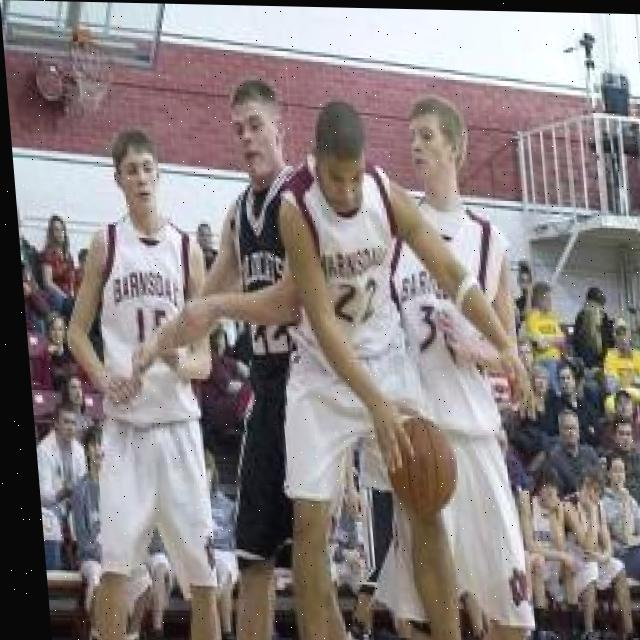basketball: (380, 403, 469, 520)
hoop: (69, 38, 121, 116)
